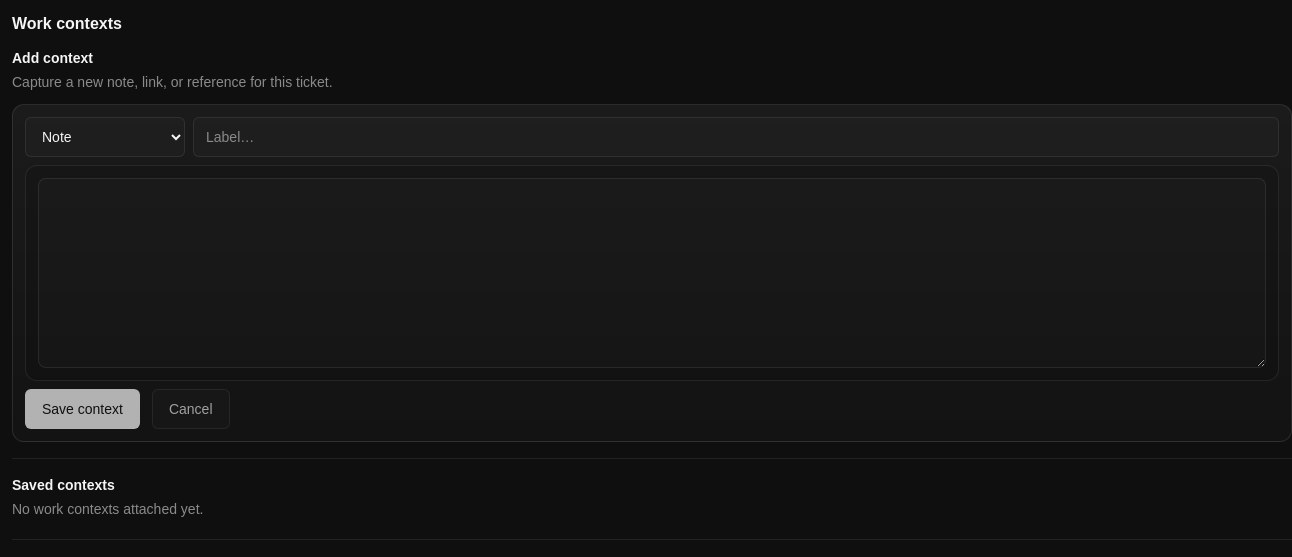
Test: WorkContextEditor › cancels the new work context draft
This screenshot has width=1292, height=557.
Type "Draft context" into the field labelled "Label" at [736, 137], box [193,117,1279,157]
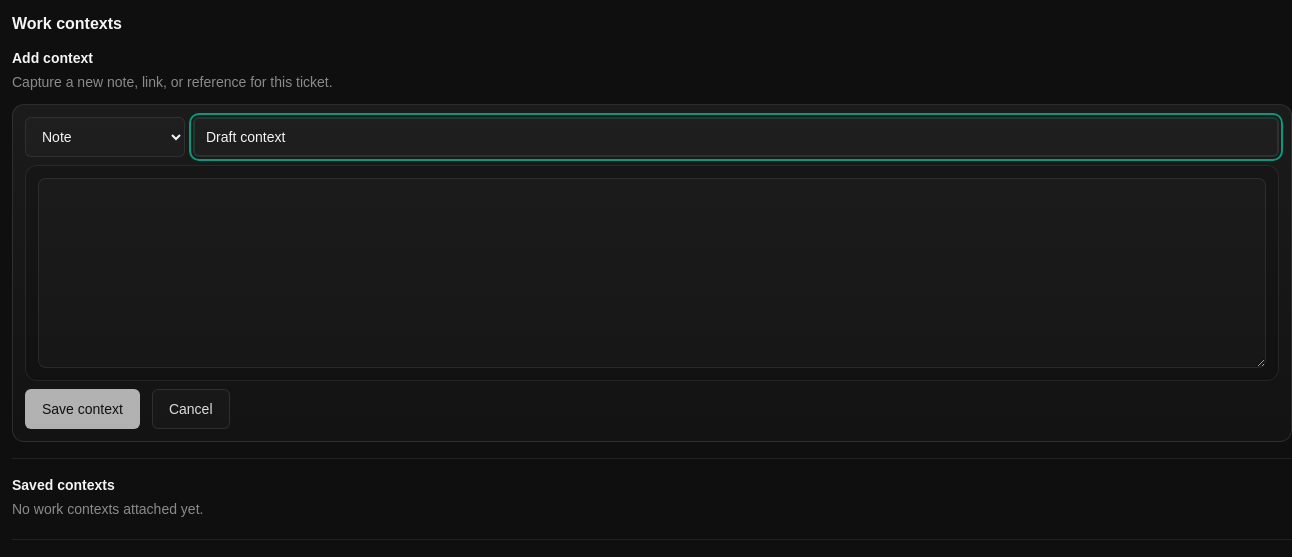
Type "Draft value" into the text box named "Note" at [652, 273], box [38,178,1266,368]
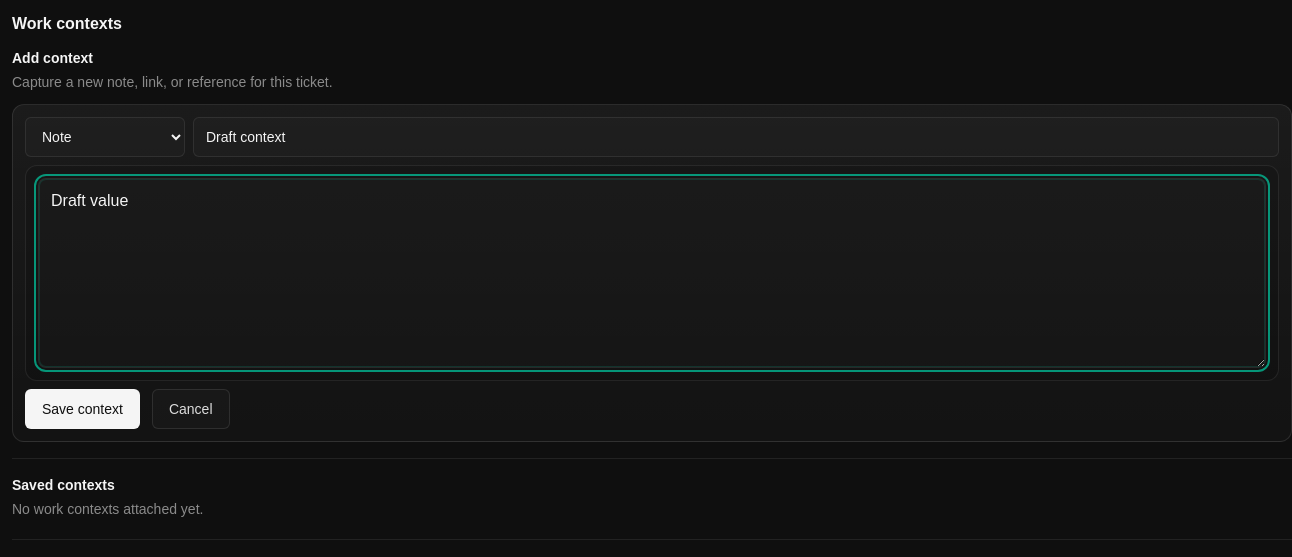
Click the button "Cancel" at [191, 409], box [152,389,230,429]
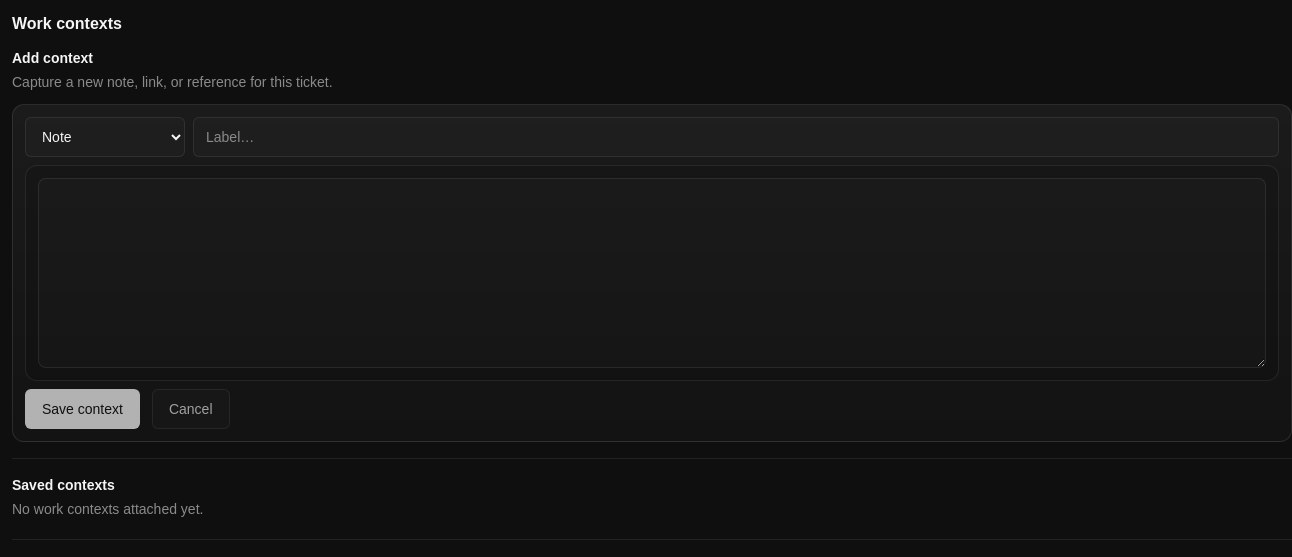
Expected: the dropdown named "Type" shows "Note", [25,117,185,157]
Result: the field labelled "Label" is empty at [193,117,1279,157]
Result: the text box named "Note" is empty at [38,178,1266,368]
